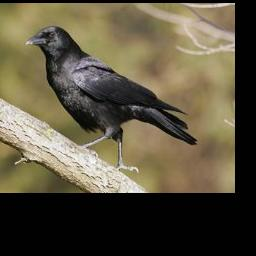Crow: (21, 24, 198, 176)
